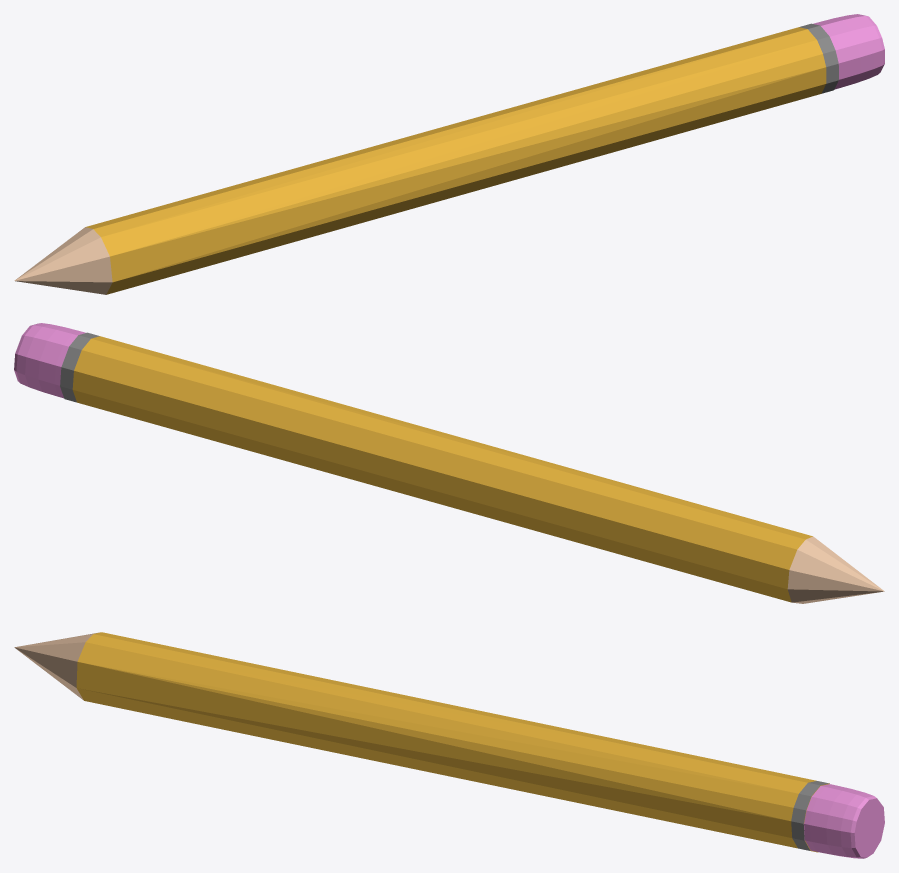
Rendered from 09_pencil.glb.
3 views of the same model, one above another, from view 1: azimuth 30°, elevation 25°; view 2: azimuth 150°, elevation 25°; view 3: azimuth 330°, elevation 25° (orthographic).
Parts seen in each view (by area): view 1: Pencil; view 2: Pencil; view 3: Pencil.
Part boxes in pixels (x1,y1,x2,y2): Pencil: (14, 14, 884, 294); Pencil: (14, 323, 884, 603); Pencil: (14, 632, 884, 858).
Size of the model in its own units: 0.1537 by 0.0156 by 0.0108.
